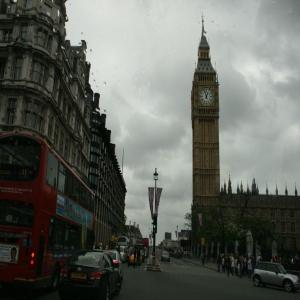Vehicle-registration-plate: (72, 271, 87, 281)
